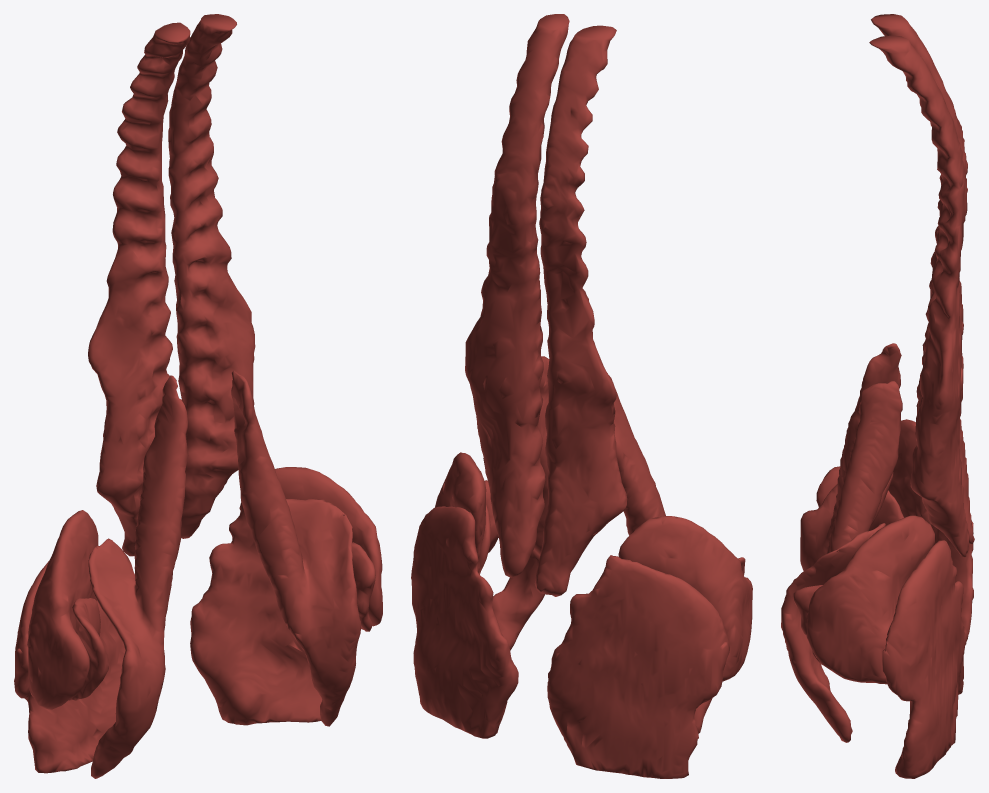
Rendered from tsd_s0327_older_adult_male.muscular.LOD4.glb.
The picture shows the model from 3 angles, left to right: view 1: azimuth 30°, elevation 25°; view 2: azimuth 150°, elevation 25°; view 3: azimuth 270°, elevation 25°; orthographic projection. The views are drawn at different scales.
Parts seen in each view (by area): view 1: TSD_S0327.OLDER_ADULT.MALE.MUSCULAR.ERECTOR_SPINAE_AUTOCHTHO (×2), TSD_S0327.OLDER_ADULT.MALE.MUSCULAR.ILIOPSOAS.L, TSD_S0327.OLDER_ADULT.MALE.MUSCULAR.ILIOPSOAS.R, TSD_S0327.OLDER_ADULT.MALE.MUSCULAR.GLUTEUS_MAXIMUS.L, TSD_S0327.OLDER_ADULT.MALE.MUSCULAR.GLUTEUS_MEDIUS.R, TSD_S0327.OLDER_ADULT.MALE.MUSCULAR.GLUTEUS_MAXIMUS.R, TSD_S0327.OLDER_ADULT.MALE.MUSCULAR.GLUTEUS_MEDIUS.L, TSD_S0327.OLDER_ADULT.MALE.MUSCULAR.GLUTEUS_MINIMUS.R, TSD_S0327.OLDER_ADULT.MALE.MUSCULAR.GLUTEUS_MINIMUS.L; view 2: TSD_S0327.OLDER_ADULT.MALE.MUSCULAR.ERECTOR_SPINAE_AUTOCHTHO (×2), TSD_S0327.OLDER_ADULT.MALE.MUSCULAR.GLUTEUS_MAXIMUS.R, TSD_S0327.OLDER_ADULT.MALE.MUSCULAR.GLUTEUS_MAXIMUS.L, TSD_S0327.OLDER_ADULT.MALE.MUSCULAR.GLUTEUS_MEDIUS.R, TSD_S0327.OLDER_ADULT.MALE.MUSCULAR.ILIOPSOAS.L, TSD_S0327.OLDER_ADULT.MALE.MUSCULAR.ILIOPSOAS.R, TSD_S0327.OLDER_ADULT.MALE.MUSCULAR.GLUTEUS_MEDIUS.L, TSD_S0327.OLDER_ADULT.MALE.MUSCULAR.GLUTEUS_MINIMUS.L; view 3: TSD_S0327.OLDER_ADULT.MALE.MUSCULAR.ERECTOR_SPINAE_AUTOCHTHO (×2), TSD_S0327.OLDER_ADULT.MALE.MUSCULAR.GLUTEUS_MAXIMUS.L, TSD_S0327.OLDER_ADULT.MALE.MUSCULAR.ILIOPSOAS.L, TSD_S0327.OLDER_ADULT.MALE.MUSCULAR.GLUTEUS_MEDIUS.L, TSD_S0327.OLDER_ADULT.MALE.MUSCULAR.ILIOPSOAS.R, TSD_S0327.OLDER_ADULT.MALE.MUSCULAR.GLUTEUS_MEDIUS.R, TSD_S0327.OLDER_ADULT.MALE.MUSCULAR.GLUTEUS_MAXIMUS.R, TSD_S0327.OLDER_ADULT.MALE.MUSCULAR.GLUTEUS_MINIMUS.R, TSD_S0327.OLDER_ADULT.MALE.MUSCULAR.GLUTEUS_MINIMUS.L.
Part boxes in pixels (box(x1,y1,x2,y2)): TSD_S0327.OLDER_ADULT.MALE.MUSCULAR.ERECTOR_SPINAE_AUTOCHTHO (×2): box(88, 14, 255, 556); TSD_S0327.OLDER_ADULT.MALE.MUSCULAR.ILIOPSOAS.L: box(231, 370, 360, 726); TSD_S0327.OLDER_ADULT.MALE.MUSCULAR.ILIOPSOAS.R: box(88, 375, 188, 778); TSD_S0327.OLDER_ADULT.MALE.MUSCULAR.GLUTEUS_MAXIMUS.L: box(190, 502, 321, 725); TSD_S0327.OLDER_ADULT.MALE.MUSCULAR.GLUTEUS_MEDIUS.R: box(27, 510, 98, 709); TSD_S0327.OLDER_ADULT.MALE.MUSCULAR.GLUTEUS_MAXIMUS.R: box(14, 560, 125, 773); TSD_S0327.OLDER_ADULT.MALE.MUSCULAR.GLUTEUS_MEDIUS.L: box(275, 467, 382, 626); TSD_S0327.OLDER_ADULT.MALE.MUSCULAR.GLUTEUS_MINIMUS.R: box(69, 598, 108, 700); TSD_S0327.OLDER_ADULT.MALE.MUSCULAR.GLUTEUS_MINIMUS.L: box(351, 542, 375, 631); TSD_S0327.OLDER_ADULT.MALE.MUSCULAR.ERECTOR_SPINAE_AUTOCHTHO (×2): box(465, 14, 627, 596); TSD_S0327.OLDER_ADULT.MALE.MUSCULAR.GLUTEUS_MAXIMUS.R: box(547, 555, 729, 778); TSD_S0327.OLDER_ADULT.MALE.MUSCULAR.GLUTEUS_MAXIMUS.L: box(411, 506, 518, 738); TSD_S0327.OLDER_ADULT.MALE.MUSCULAR.GLUTEUS_MEDIUS.R: box(618, 516, 752, 681); TSD_S0327.OLDER_ADULT.MALE.MUSCULAR.ILIOPSOAS.L: box(483, 356, 549, 650); TSD_S0327.OLDER_ADULT.MALE.MUSCULAR.ILIOPSOAS.R: box(608, 375, 712, 733); TSD_S0327.OLDER_ADULT.MALE.MUSCULAR.GLUTEUS_MEDIUS.L: box(435, 452, 486, 572); TSD_S0327.OLDER_ADULT.MALE.MUSCULAR.GLUTEUS_MINIMUS.L: box(479, 480, 498, 574); TSD_S0327.OLDER_ADULT.MALE.MUSCULAR.ERECTOR_SPINAE_AUTOCHTHO (×2): box(869, 14, 974, 557); TSD_S0327.OLDER_ADULT.MALE.MUSCULAR.GLUTEUS_MAXIMUS.L: box(882, 540, 966, 778); TSD_S0327.OLDER_ADULT.MALE.MUSCULAR.ILIOPSOAS.L: box(781, 381, 902, 742); TSD_S0327.OLDER_ADULT.MALE.MUSCULAR.GLUTEUS_MEDIUS.L: box(806, 515, 934, 684); TSD_S0327.OLDER_ADULT.MALE.MUSCULAR.ILIOPSOAS.R: box(800, 343, 901, 570); TSD_S0327.OLDER_ADULT.MALE.MUSCULAR.GLUTEUS_MEDIUS.R: box(888, 419, 931, 526); TSD_S0327.OLDER_ADULT.MALE.MUSCULAR.GLUTEUS_MAXIMUS.R: box(931, 521, 973, 694); TSD_S0327.OLDER_ADULT.MALE.MUSCULAR.GLUTEUS_MINIMUS.R: box(816, 466, 903, 530); TSD_S0327.OLDER_ADULT.MALE.MUSCULAR.GLUTEUS_MINIMUS.L: box(793, 585, 822, 664).
Size of the model in its own units: 0.3078 by 0.6437 by 0.1662.
